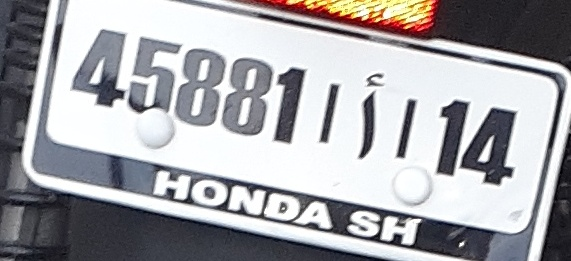1: (273, 63, 308, 148), (436, 91, 469, 179)
4: (70, 27, 127, 111), (461, 104, 517, 189)
5: (129, 34, 176, 121)
8: (221, 55, 272, 138), (176, 49, 226, 133)
a: (355, 70, 384, 160)
